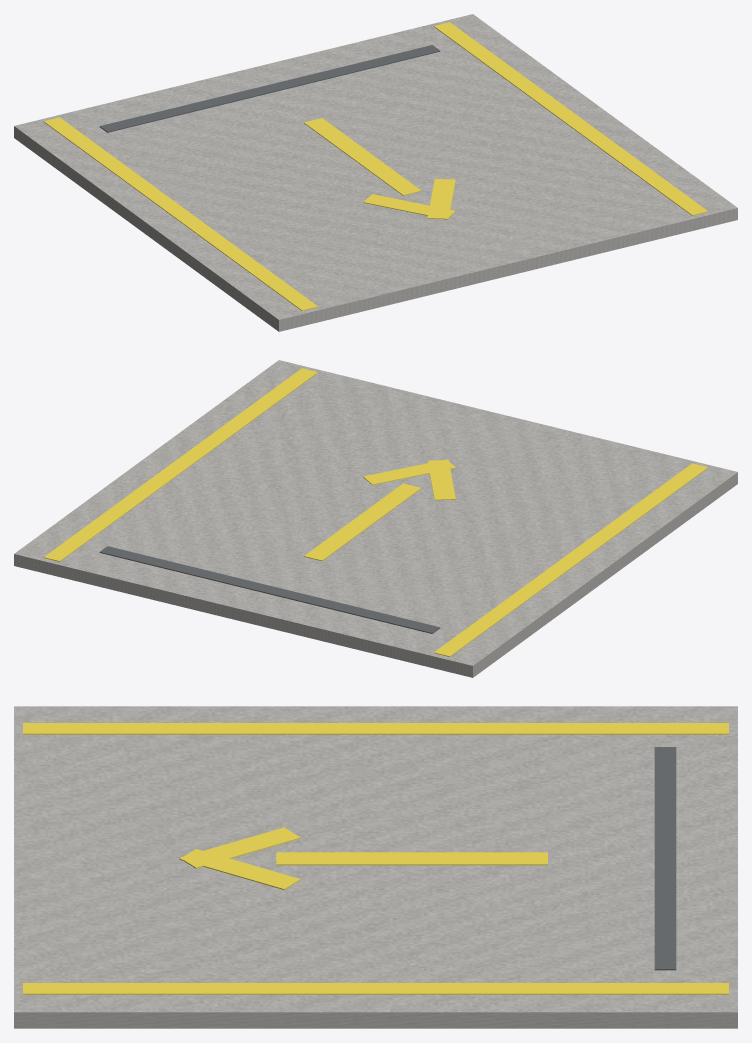
File: recycling-and-waste-transfer-yard-recycling-and-waste--020cc446__34890.glb
3 views of the same model, one above another, from view 1: azimuth 30°, elevation 25°; view 2: azimuth 150°, elevation 25°; view 3: azimuth 270°, elevation 25° (orthographic). The views are drawn at different scales.
Visible parts, largest first — view 1: recycling-and-waste-transfer-yard-queue-lane-marking-tile; view 2: recycling-and-waste-transfer-yard-queue-lane-marking-tile; view 3: recycling-and-waste-transfer-yard-queue-lane-marking-tile.
Boxes of the visible parts, box(x1,y1,x2,y2) form: recycling-and-waste-transfer-yard-queue-lane-marking-tile: box(14, 14, 737, 331); recycling-and-waste-transfer-yard-queue-lane-marking-tile: box(14, 360, 737, 677); recycling-and-waste-transfer-yard-queue-lane-marking-tile: box(14, 706, 737, 1028).
Size of the model in its own units: 4 by 0.1081 by 4.
3 materials, 1 textured.
